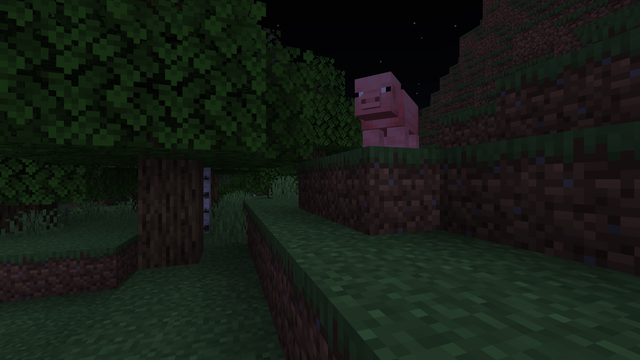cochons: (353, 87, 434, 146)
